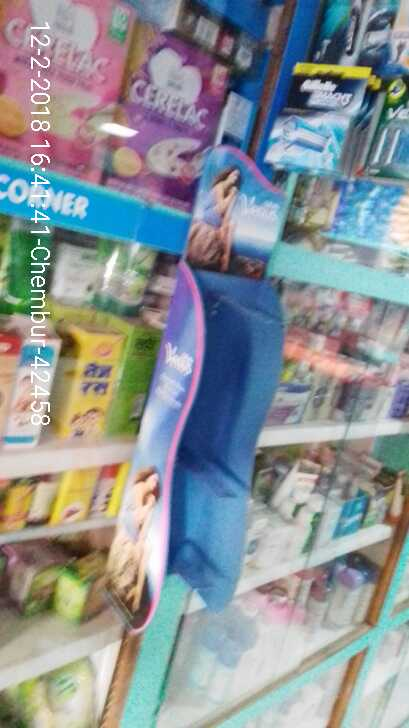reject: (99, 281, 263, 384)
